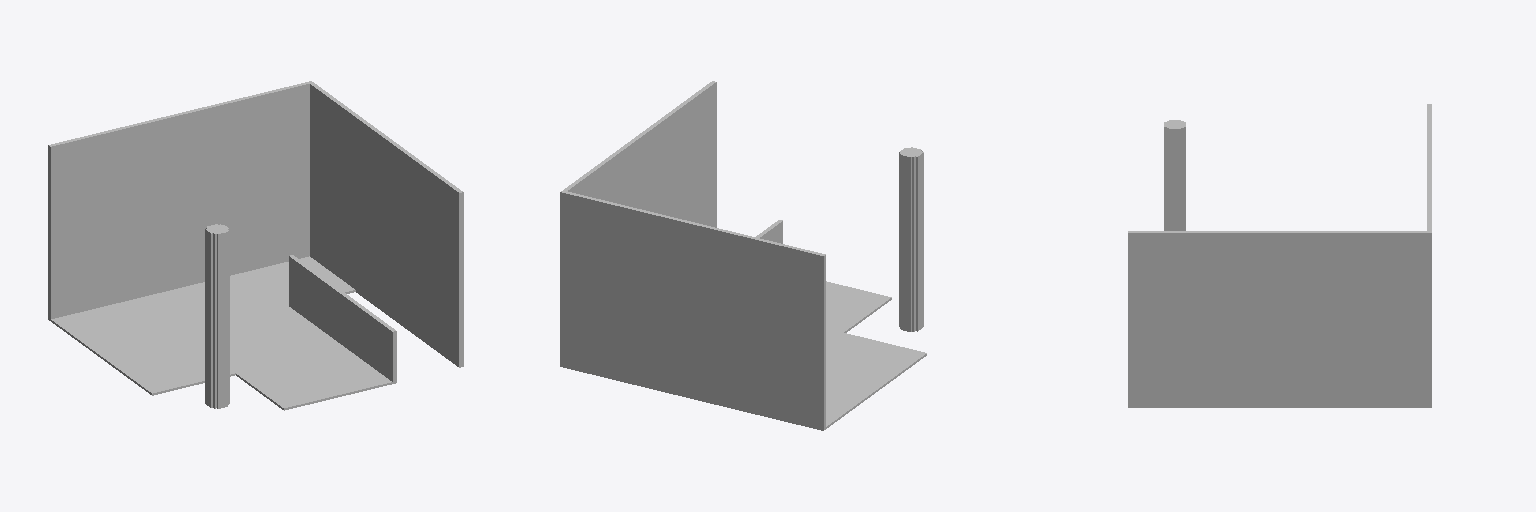
File: 4x2 second-4.obj
3 renders of one model, left to right at view 1: azimuth 30°, elevation 25°; view 2: azimuth 150°, elevation 25°; view 3: azimuth 270°, elevation 25°, orthographic.
Parts seen in each view (by area): view 1: 4x2 second-4; view 2: 4x2 second-4; view 3: 4x2 second-4.
Part boxes in pixels (left/top/right/bottom): 4x2 second-4: left=48, top=81, right=463, bottom=410; 4x2 second-4: left=560, top=81, right=926, bottom=430; 4x2 second-4: left=1128, top=104, right=1431, bottom=407.
Bounding box in the file's own units: 126 × 80 × 126.